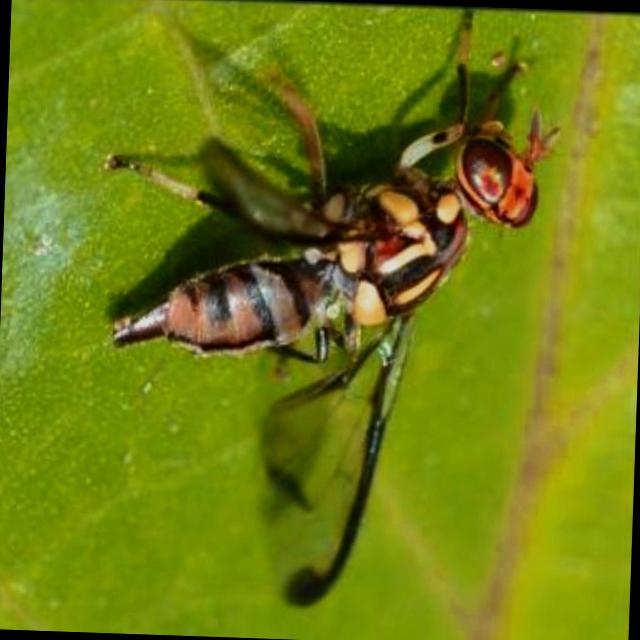melon fly: (99, 21, 607, 616)
